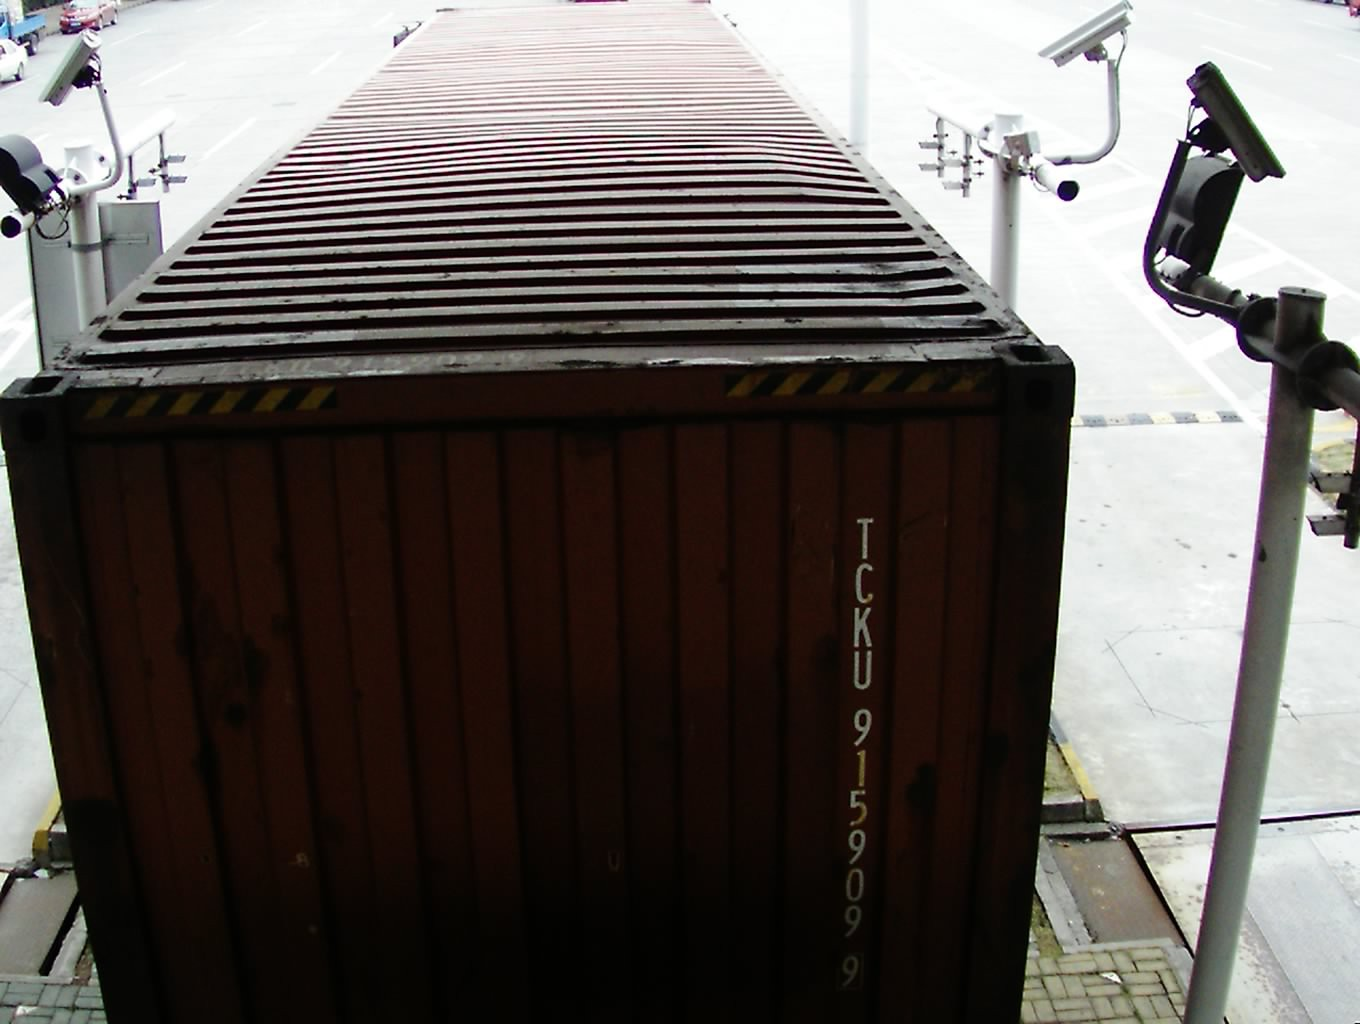words: (832, 503, 881, 1000)
